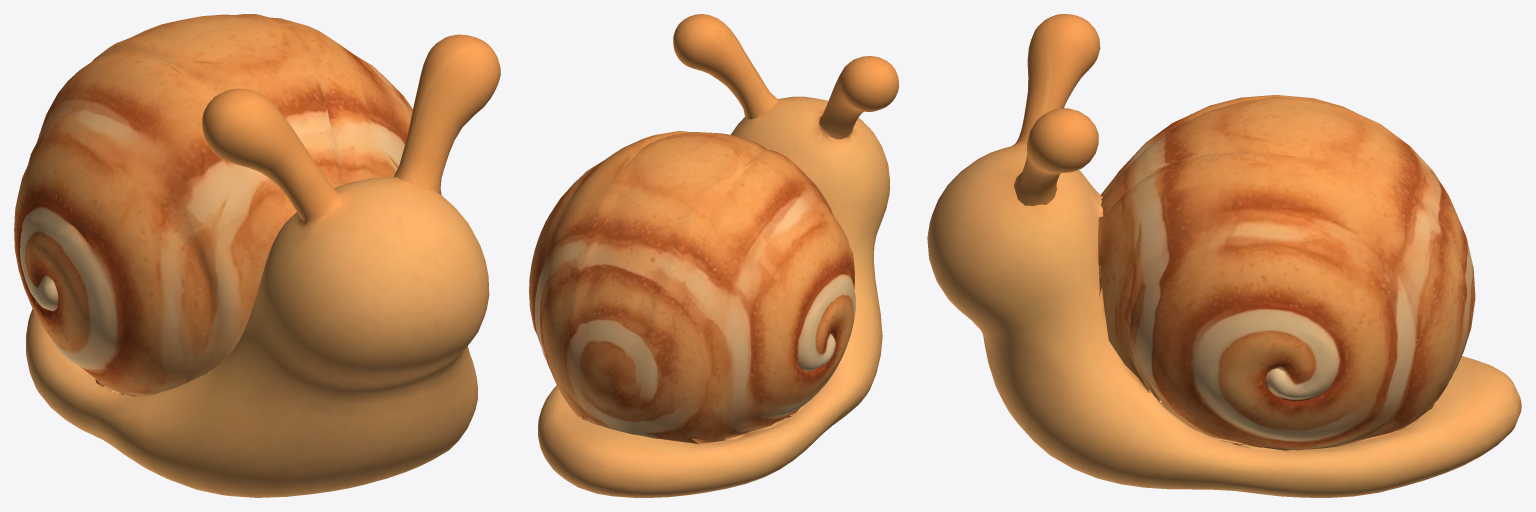
Rendered from roll-snail.glb.
3 renders of one model, left to right at view 1: azimuth 30°, elevation 25°; view 2: azimuth 150°, elevation 25°; view 3: azimuth 270°, elevation 25°, orthographic. The views are drawn at different scales.
Parts seen in each view (by area): view 1: Mesh_0; view 2: Mesh_0; view 3: Mesh_0.
Boxes of the visible parts, left/top/right/bottom form: Mesh_0: left=14, top=14, right=500, bottom=497; Mesh_0: left=529, top=14, right=898, bottom=497; Mesh_0: left=927, top=14, right=1521, bottom=497.
Bounding box in the file's own units: 0.8992 × 1 × 1.4.
Materials: 1 (1 with a texture image).
